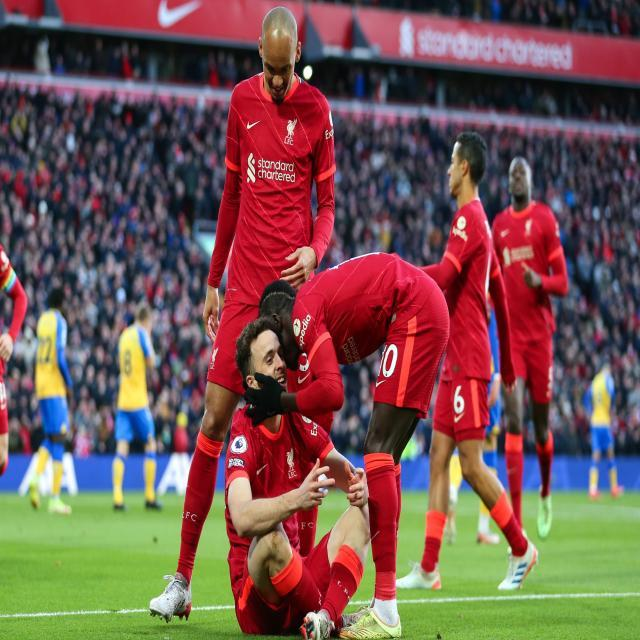Nike: (158, 0, 201, 27), (298, 370, 311, 383), (256, 462, 268, 474), (247, 120, 261, 130), (376, 379, 386, 388)
Standard Chartered: (399, 19, 573, 74), (247, 152, 296, 184)
